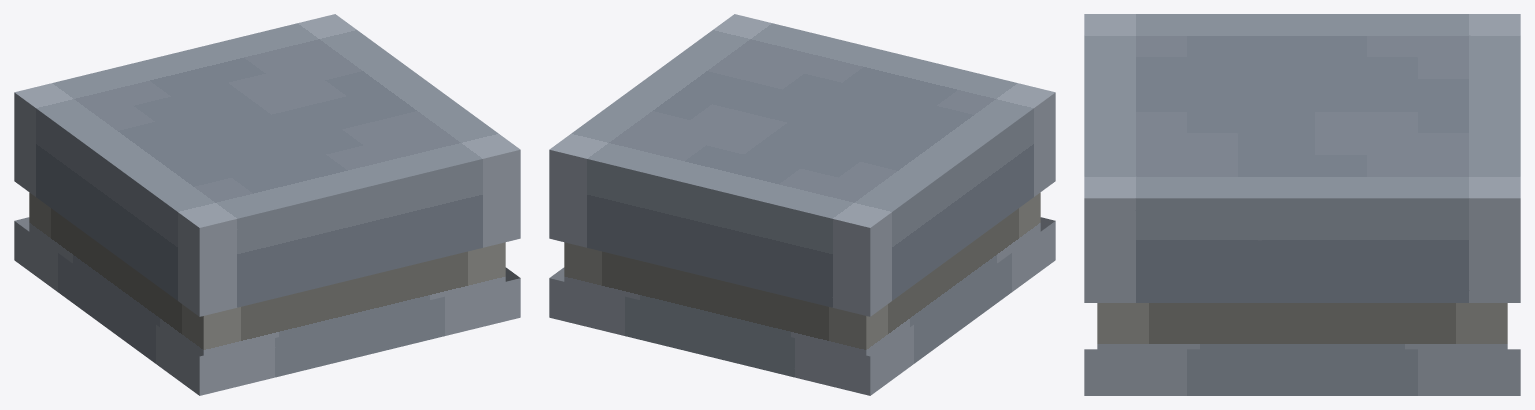
Rendered from _Small Light Gray Pod Top.glb.
3 views of the same model, side by side, from view 1: azimuth 30°, elevation 25°; view 2: azimuth 150°, elevation 25°; view 3: azimuth 270°, elevation 25° (orthographic). The views are drawn at different scales.
Parts seen in each view (by area): view 1: cube; view 2: cube; view 3: cube.
Boxes of the visible parts, box(x1,y1,x2,y2) form: cube: box(14, 14, 520, 395); cube: box(549, 14, 1055, 395); cube: box(1084, 14, 1520, 395).
Bounding box in the file's own units: 1.06 × 0.5312 × 1.06.
1 material, 1 textured.
